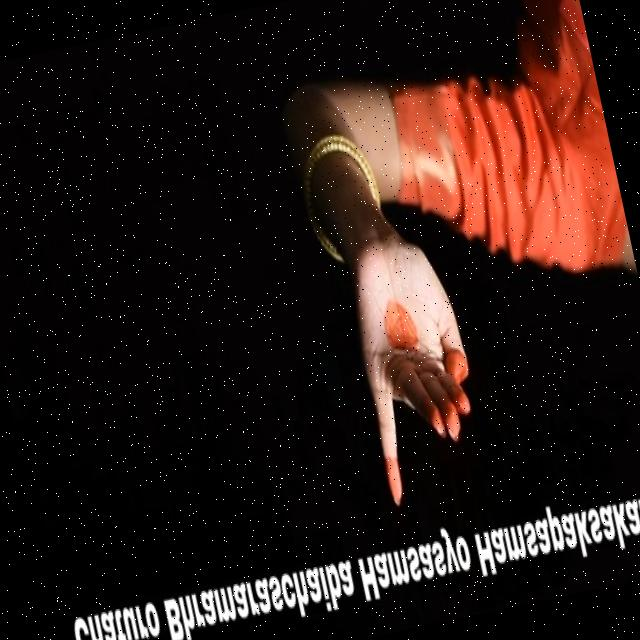Hamsapaksha: (322, 218, 517, 515)
bangle: (276, 111, 392, 236)
text: (65, 472, 640, 640)
